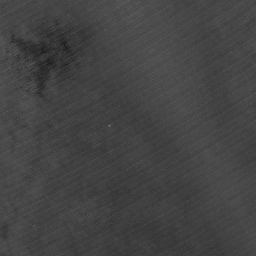Target: (105, 122, 112, 129)
